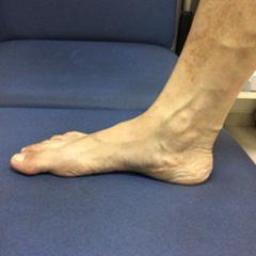Medial View -Right Foot-: (6, 74, 241, 192)
